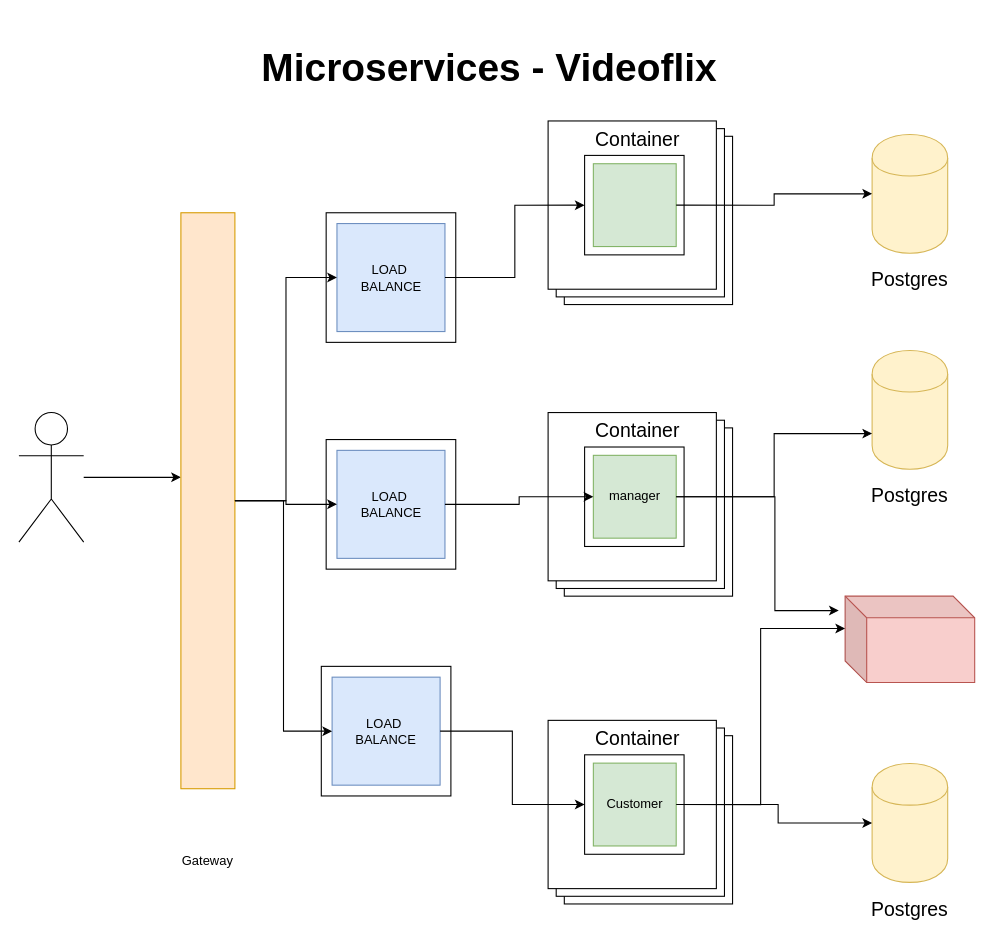
Image size: 994x940. Some labels were removed from this diagram. The centre of each missing label's shape, as x and y in pixels:
"Auth" goes at (634,205).
"Storage" goes at (909,639).
"User" goes at (51,476).
